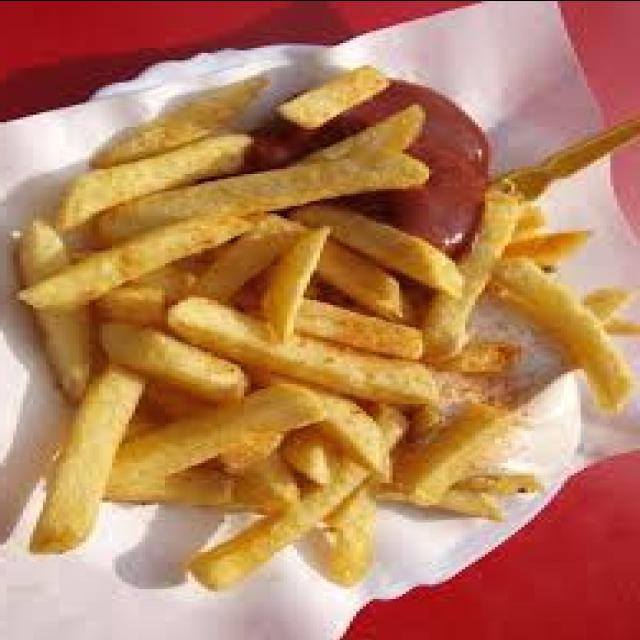kentang goreng: (26, 111, 429, 309), (162, 292, 442, 405)
